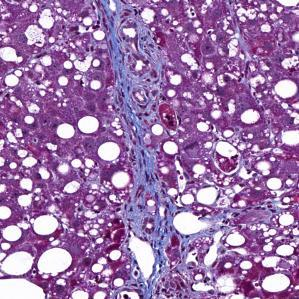fibrosis: (107, 9, 173, 125), (124, 162, 181, 248)
